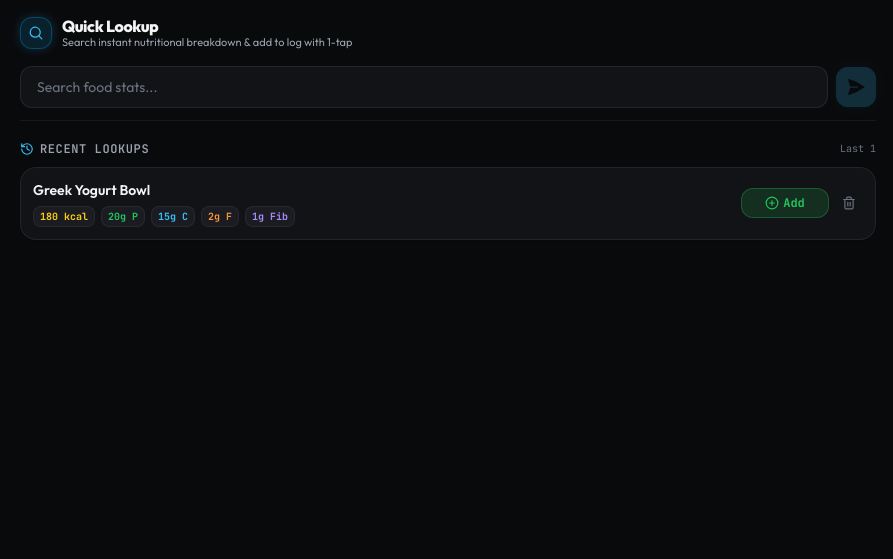
Test: LookupPanel Component › allows clearing all lookup results with Clear All button without affecting persistent history
Type "apple" into the field with placeholder "Search food stats..." at (424, 87), box [20,66,828,108]
Then press Enter
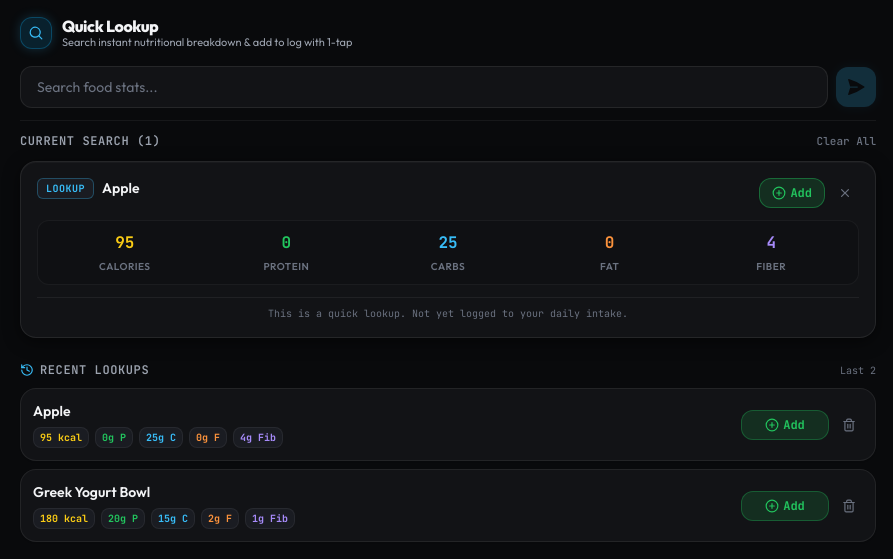
Result: the text "Current Search (1)" is shown at [20,133,160,149]
Click the button "Clear All" at (846, 141), box [817,133,876,149]
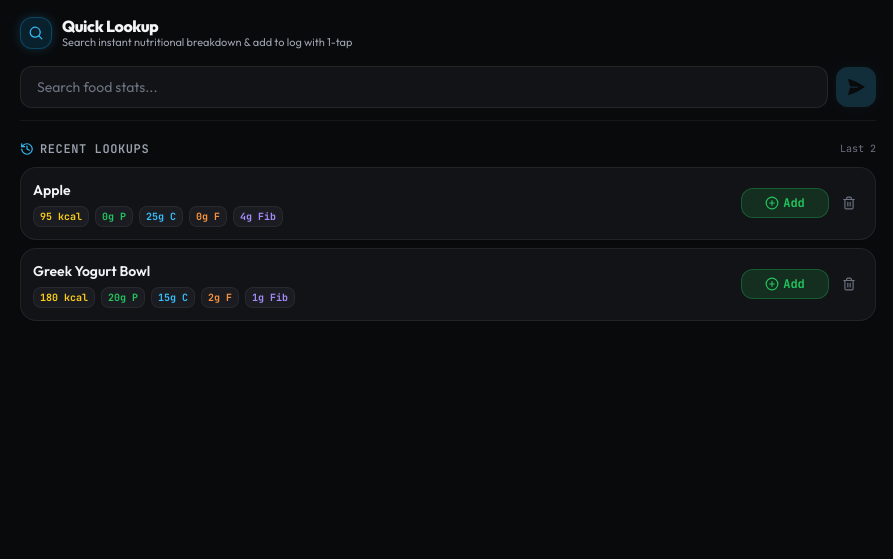
Expected: the heading "Recent Lookups" is shown, [40,141,149,157]
Result: the text "Current Search" is gone
